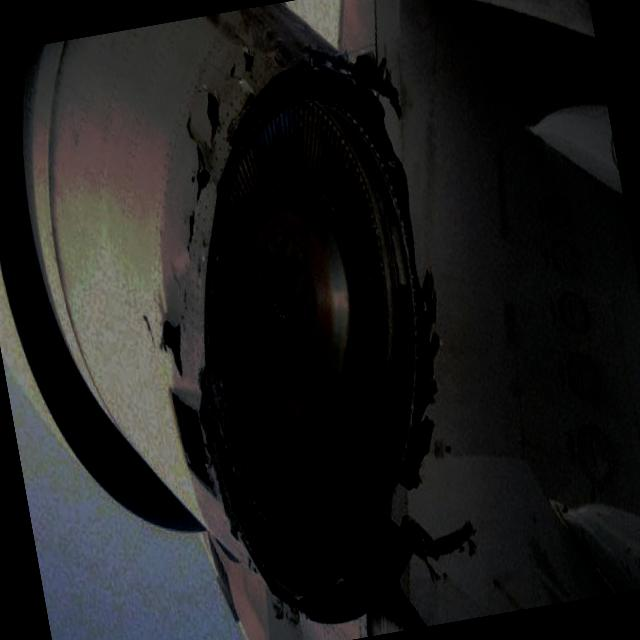crack: (106, 42, 311, 372)
